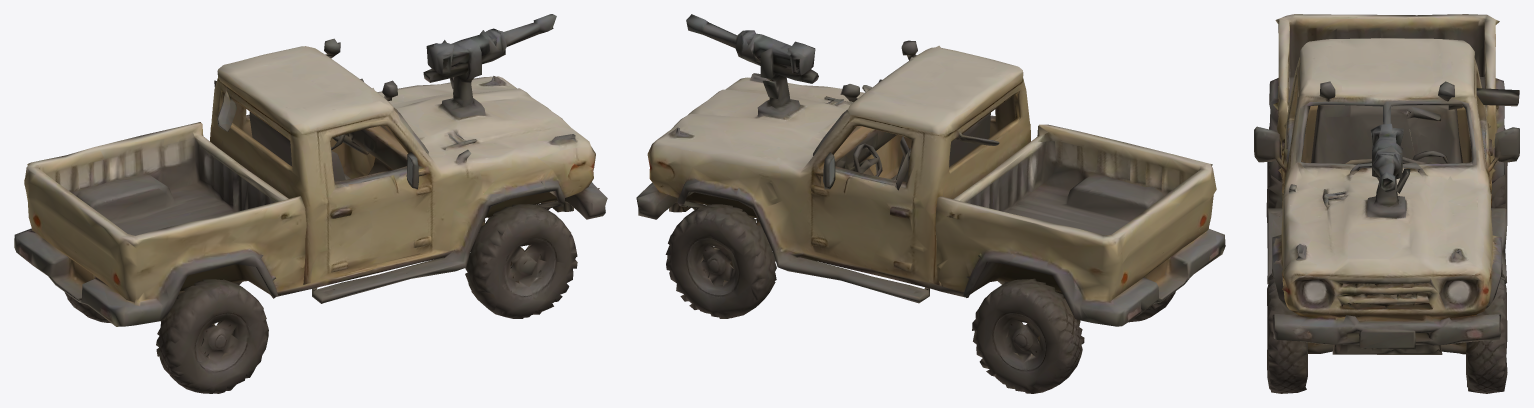
Rendered from technical.glb.
3 renders of one model, left to right at view 1: azimuth 30°, elevation 25°; view 2: azimuth 150°, elevation 25°; view 3: azimuth 270°, elevation 25°, orthographic. The views are drawn at different scales.
Parts seen in each view (by area): view 1: tripo_node_dc2fffb1-ad5f-427a-b1c5-6fb5928b61bd; view 2: tripo_node_dc2fffb1-ad5f-427a-b1c5-6fb5928b61bd; view 3: tripo_node_dc2fffb1-ad5f-427a-b1c5-6fb5928b61bd.
Part boxes in pixels (box(x1,y1,x2,y2)): tripo_node_dc2fffb1-ad5f-427a-b1c5-6fb5928b61bd: box(14, 14, 607, 393); tripo_node_dc2fffb1-ad5f-427a-b1c5-6fb5928b61bd: box(636, 14, 1225, 393); tripo_node_dc2fffb1-ad5f-427a-b1c5-6fb5928b61bd: box(1254, 14, 1519, 393).
Size of the model in its own units: 1 by 0.4695 by 0.4532.
1 material, 1 textured.
